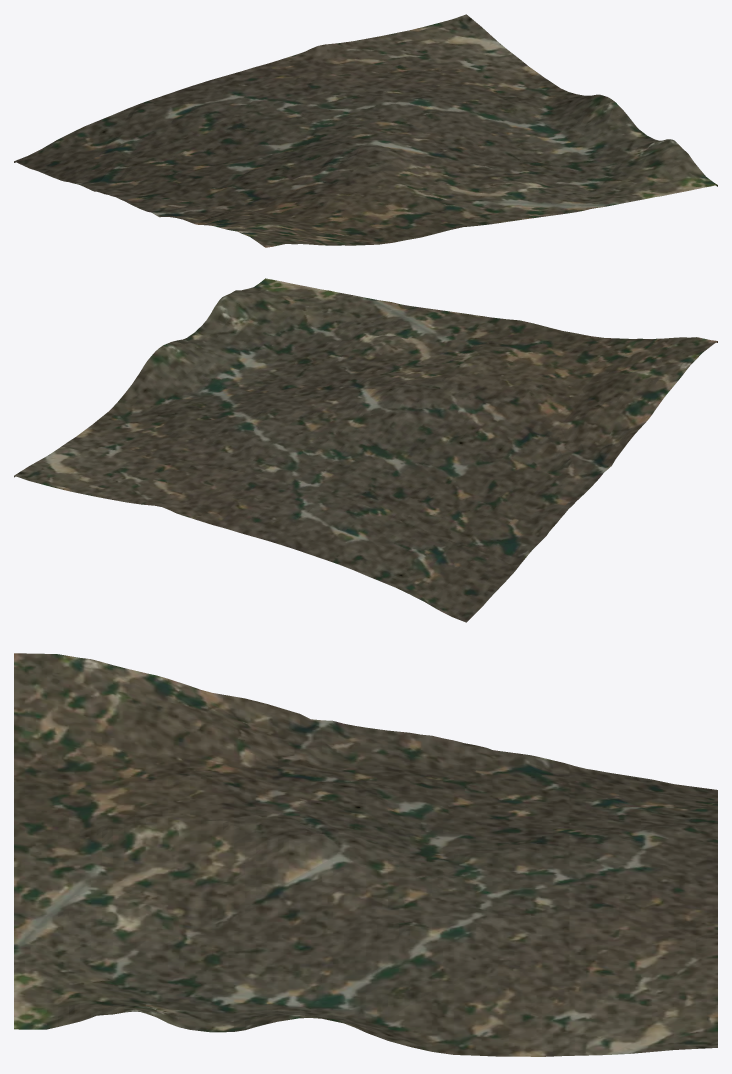
The picture shows the model from 3 angles, top to bottom: view 1: azimuth 30°, elevation 25°; view 2: azimuth 150°, elevation 25°; view 3: azimuth 270°, elevation 25°; orthographic projection. The views are drawn at different scales.
Bounding box in the file's own units: 250 × 52.52 × 241.
1 material, 1 textured.
